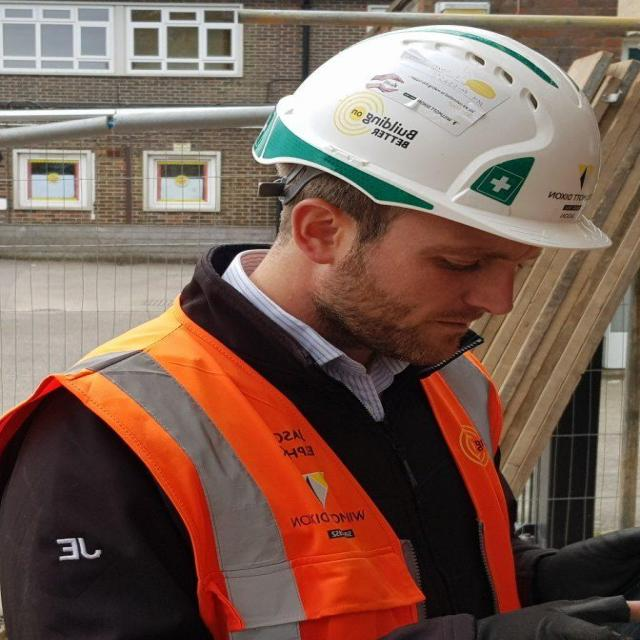Reflective-Jacket: (21, 291, 537, 640)
Safety-Helmet: (253, 28, 612, 251)
